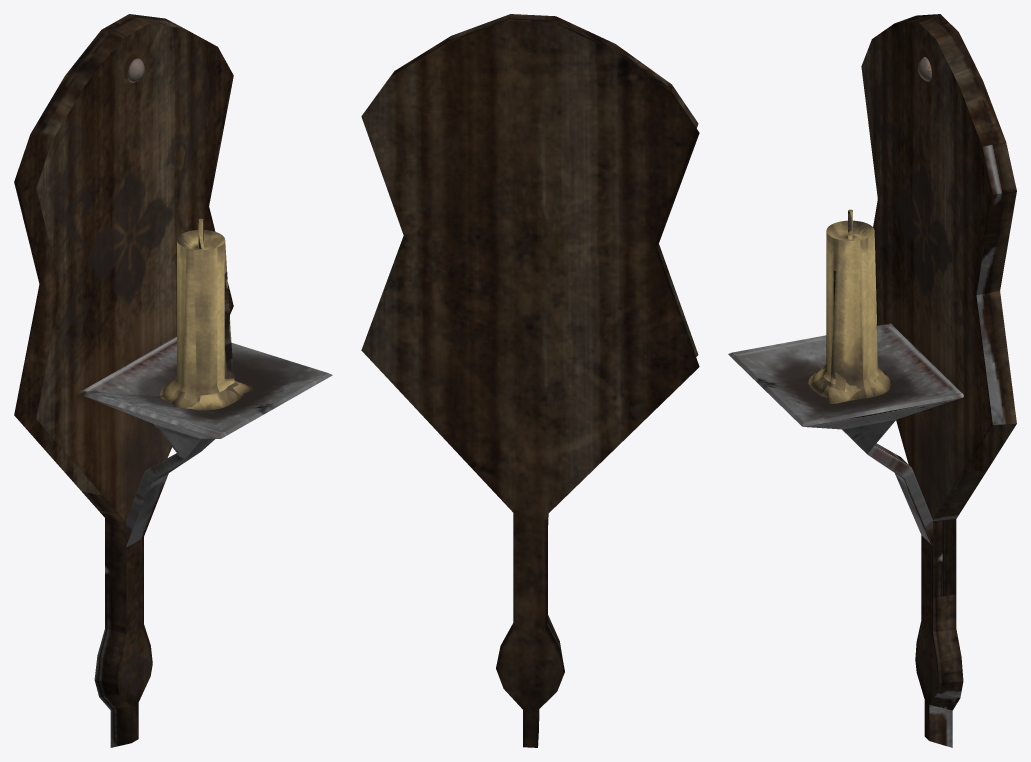
The model's file is vela_parede.obj.
The picture shows the model from 3 angles, left to right: view 1: azimuth 30°, elevation 25°; view 2: azimuth 150°, elevation 25°; view 3: azimuth 270°, elevation 25°; orthographic projection.
Visible parts, largest first — view 1: Object_4; view 2: Object_4; view 3: Object_4.
Part boxes in pixels (x1,y1,x2,y2): Object_4: (14,14,332,747); Object_4: (361,14,699,747); Object_4: (728,14,1016,747).
Bounding box in the file's own units: 18.8 × 46.6 × 16.9.
3 materials, 3 textured.
